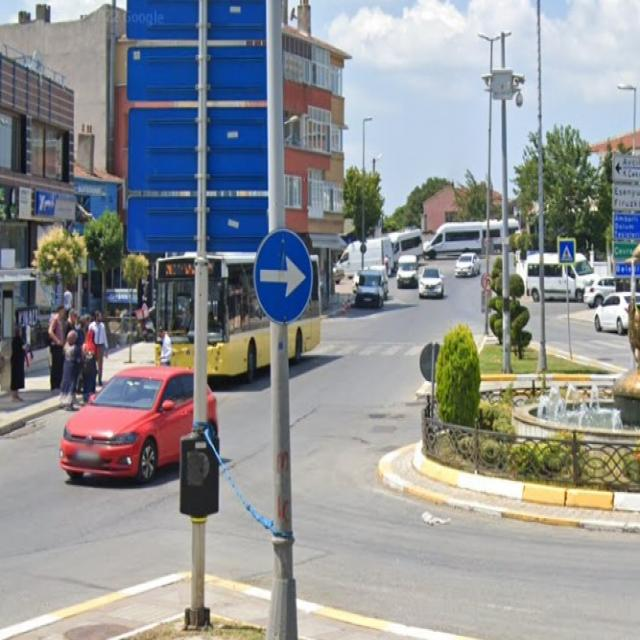Turn Right: (252, 232, 317, 328)
